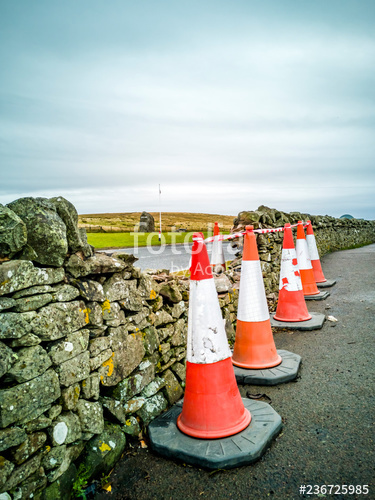cone: (144, 233, 285, 471), (215, 226, 303, 389), (266, 222, 326, 336), (280, 222, 330, 303), (291, 223, 338, 290)
